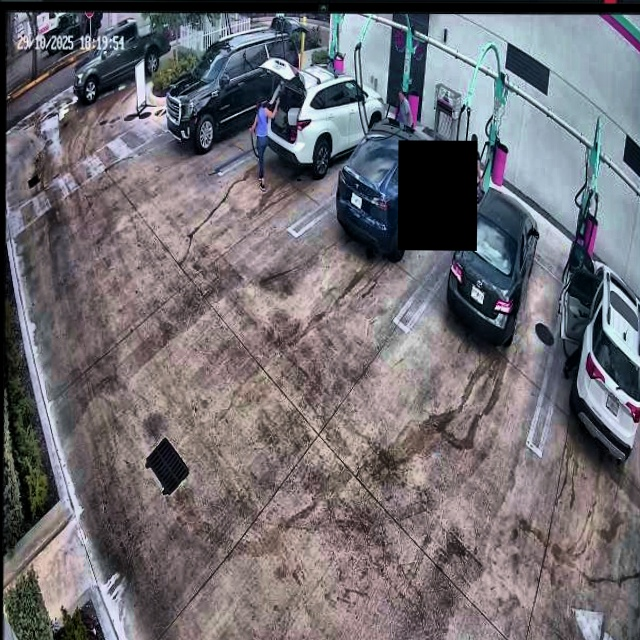Car: (338, 116, 454, 256), (447, 187, 539, 348), (260, 59, 385, 174)
